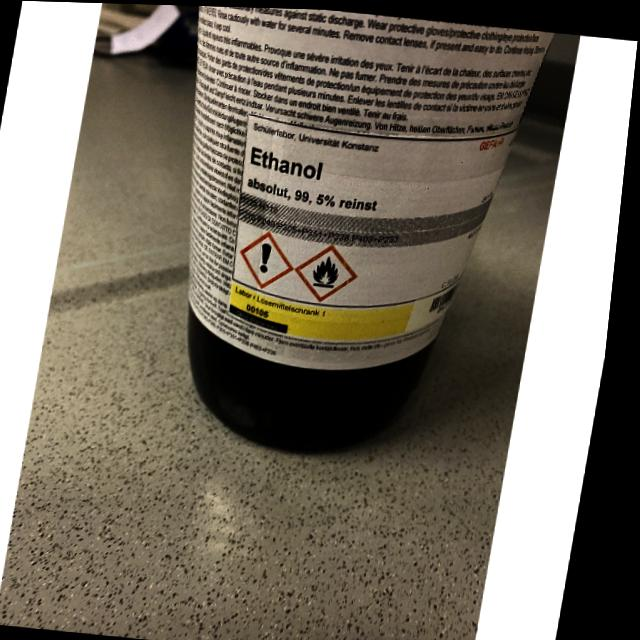flammable: (316, 251, 347, 286)
health-ozone layer hazard: (263, 241, 278, 271)
